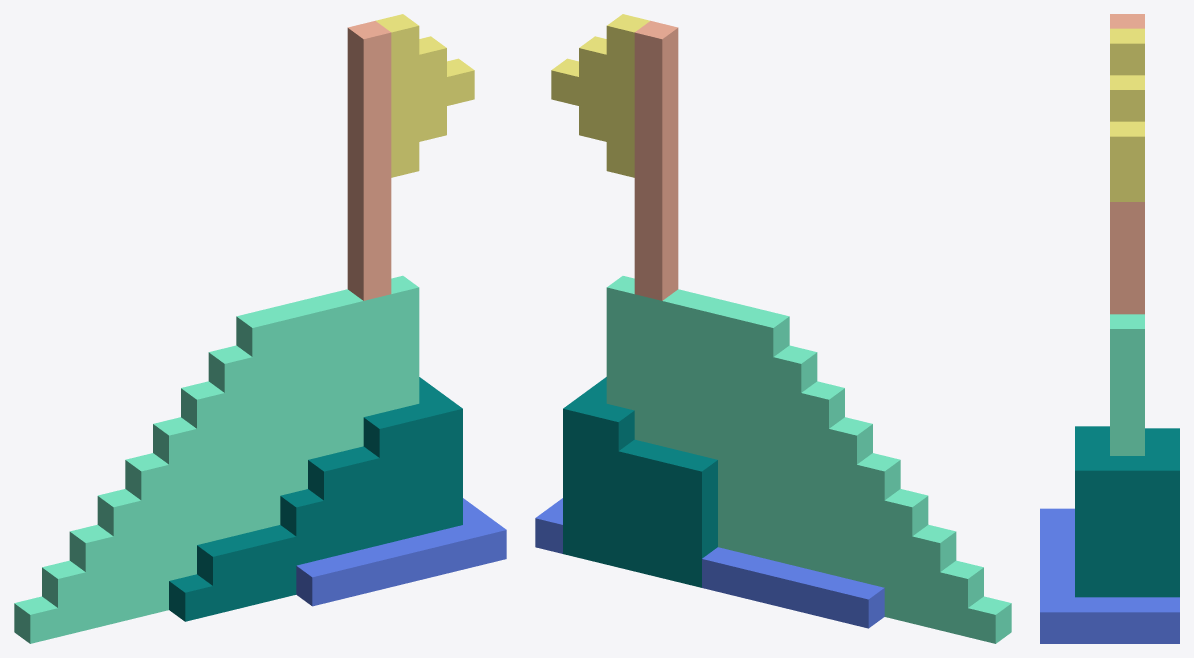
Rendered from challenges.glb.
3 renders of one model, left to right at view 1: azimuth 30°, elevation 25°; view 2: azimuth 150°, elevation 25°; view 3: azimuth 270°, elevation 25°, orthographic. The views are drawn at different scales.
Visible parts, largest first — view 1: ObjObject.001; view 2: ObjObject.001; view 3: ObjObject.001.
Boxes of the visible parts, x1=… form: ObjObject.001: x1=14, y1=14, x2=506, y2=643; ObjObject.001: x1=535, y1=14, x2=1011, y2=643; ObjObject.001: x1=1040, y1=14, x2=1179, y2=643.
Bounding box in the file's own units: 1.6 × 1.8 × 0.4.
Materials: 1 (1 with a texture image).
